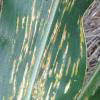Corn leaf blight: (0, 1, 96, 100)
